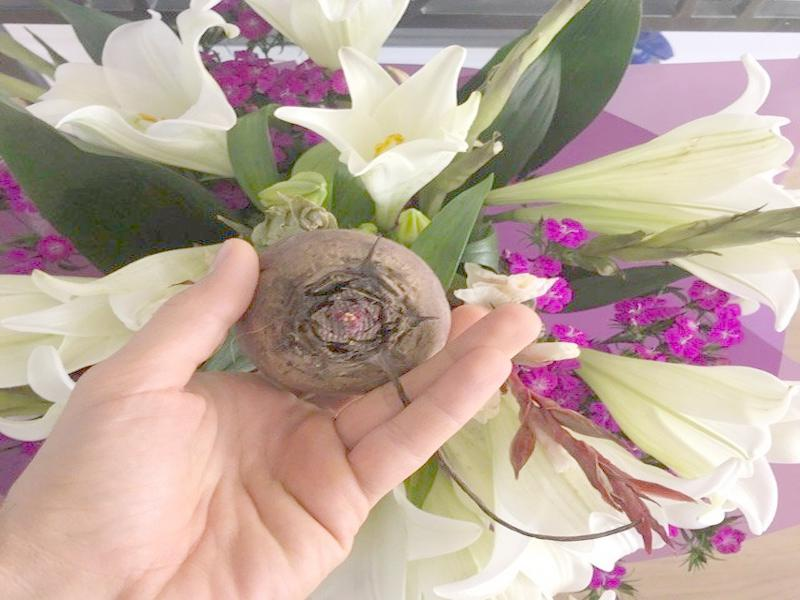Beet: (239, 228, 454, 400)
